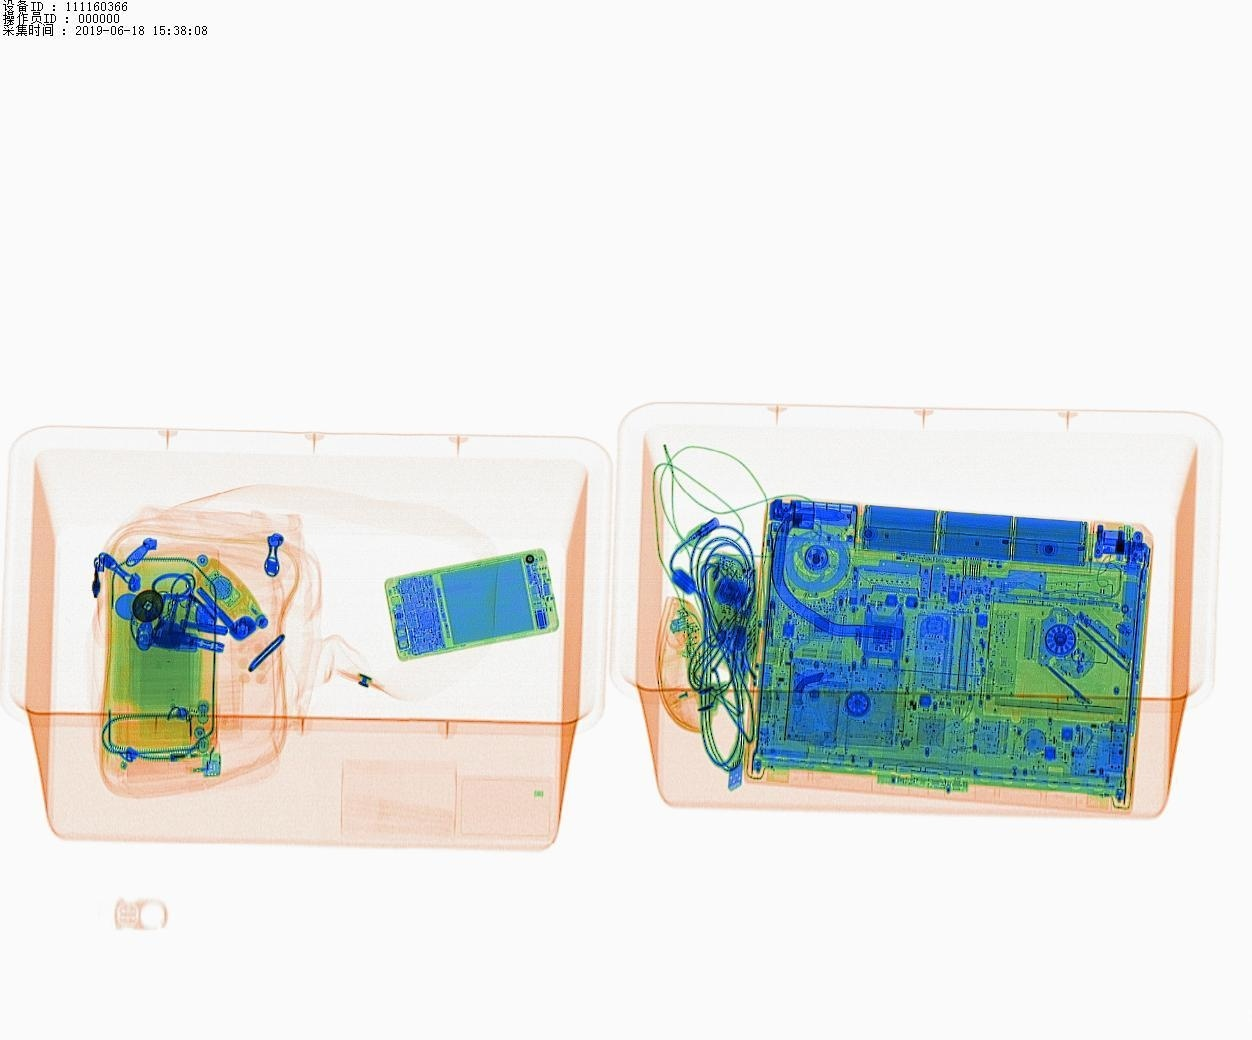NonmetallicFire: (119, 739, 244, 785)
